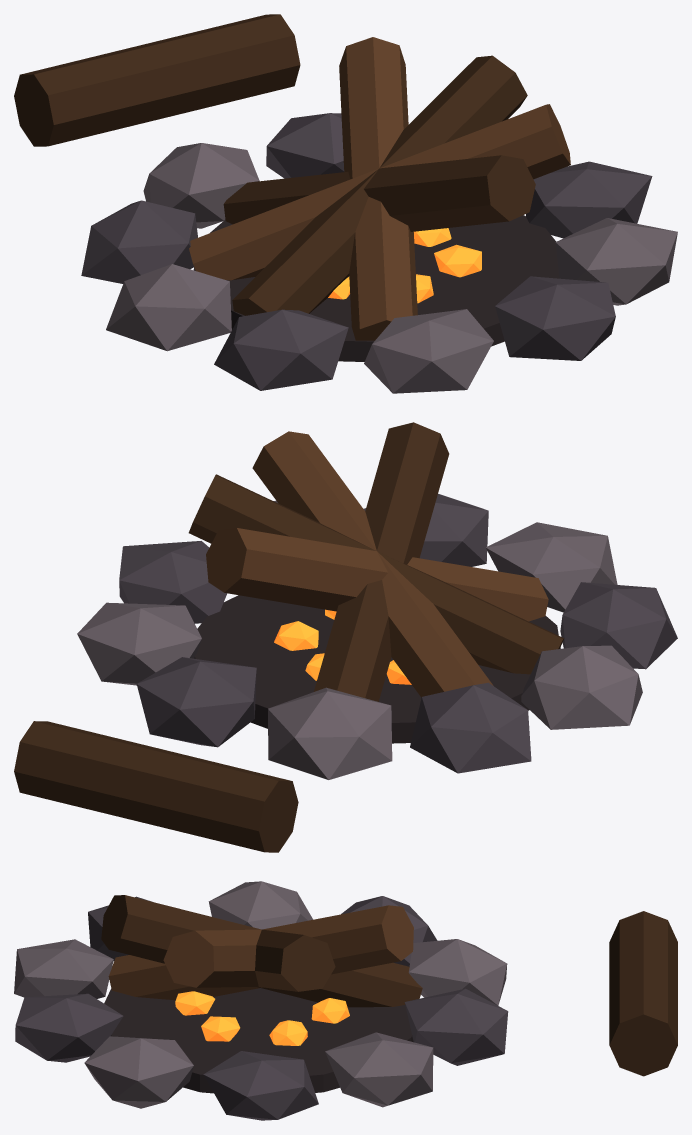
The model's file is camp_fire.glb.
The picture shows the model from 3 angles, top to bottom: view 1: azimuth 30°, elevation 25°; view 2: azimuth 150°, elevation 25°; view 3: azimuth 270°, elevation 25°; orthographic projection. The views are drawn at different scales.
Parts seen in each view (by area): view 1: Icosphere; view 2: Icosphere; view 3: Icosphere.
Part boxes in pixels (x1=…): Icosphere: x1=14, y1=14, x2=677, y2=393; Icosphere: x1=14, y1=422, x2=677, y2=852; Icosphere: x1=14, y1=881, x2=677, y2=1120.
Size of the model in its own units: 1.07 by 0.3662 by 1.36.
